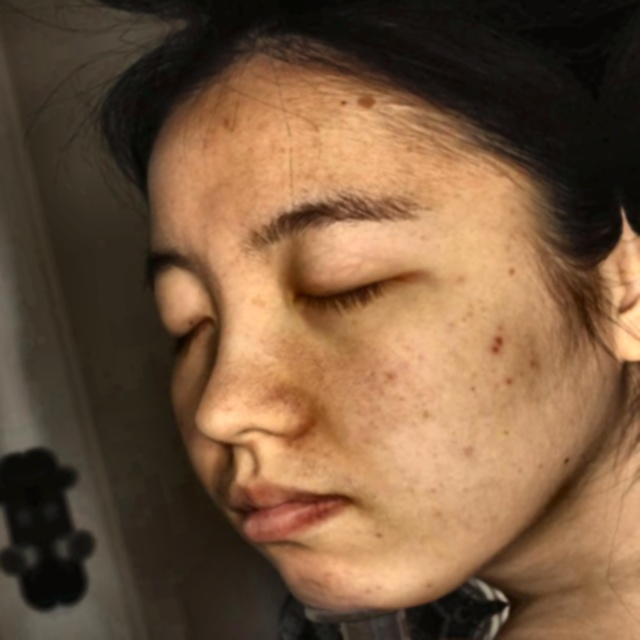comedone: (484, 330, 515, 359)
